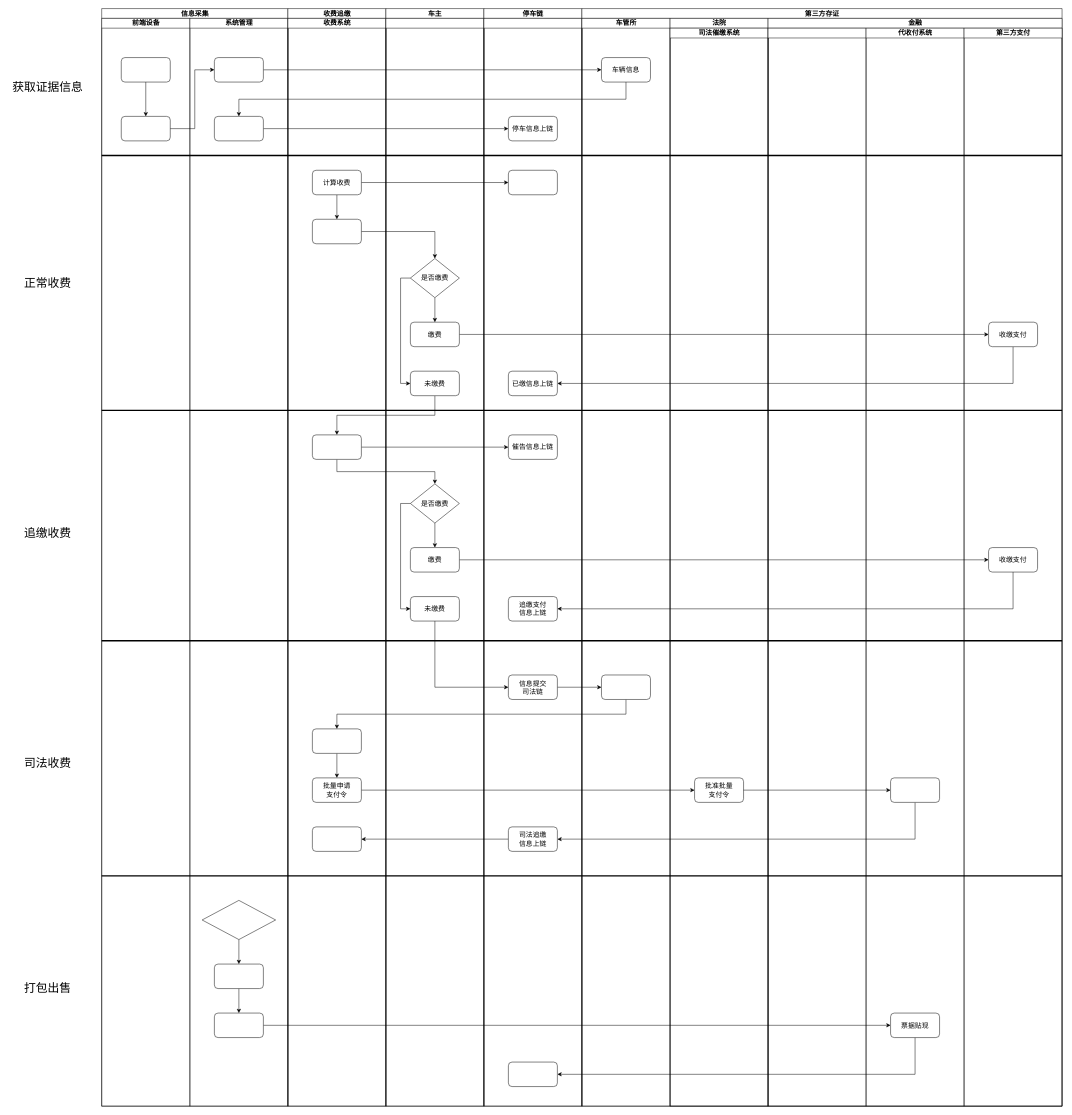
This 1072x1115 diagram has some shape labels left out. Here are the shapes that lost their labels. From the top down, the centre of each, then its label:
the point at 145,69: 抓拍
the point at 238,69: 分拣信息
the point at 145,128: 获取信息
the point at 238,128: 确认信息
the point at 532,182: 收费信息上链
the point at 336,231: 收费告知
the point at 336,446: 收费催告
the point at 817,567: 票据贴现系统
the point at 625,686: 查询车主信息
the point at 336,740: 组成批量 追缴包
the point at 915,789: 强制支付
the point at 336,838: 司法追缴 成功告知
the point at 239,920: 超过资金风险阈值
the point at 238,976: 统计待追缴 资产清单
the point at 238,1025: 待追缴资产 打包
the point at 532,1074: 票据贴现数据上链
